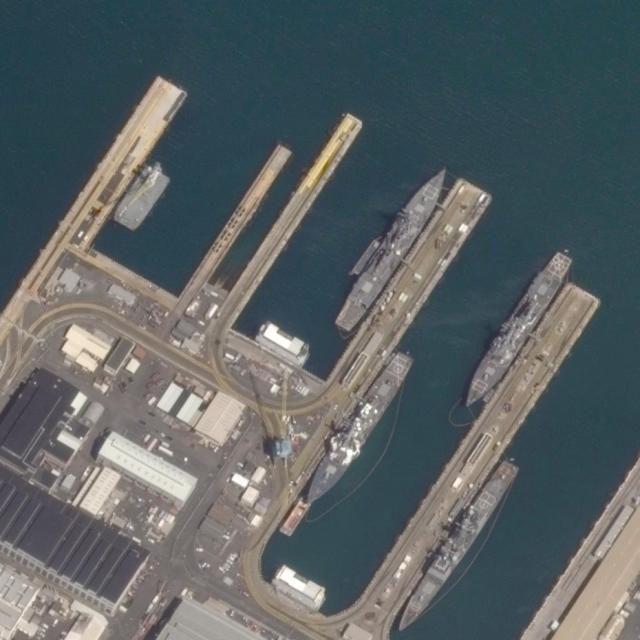Cruiser: (391, 460, 520, 634)
Destroyer: (332, 162, 456, 335), (457, 247, 575, 412), (303, 348, 416, 508)
Dock: (351, 276, 603, 634), (330, 176, 493, 401), (213, 111, 365, 330), (55, 74, 189, 244), (178, 142, 294, 301)
